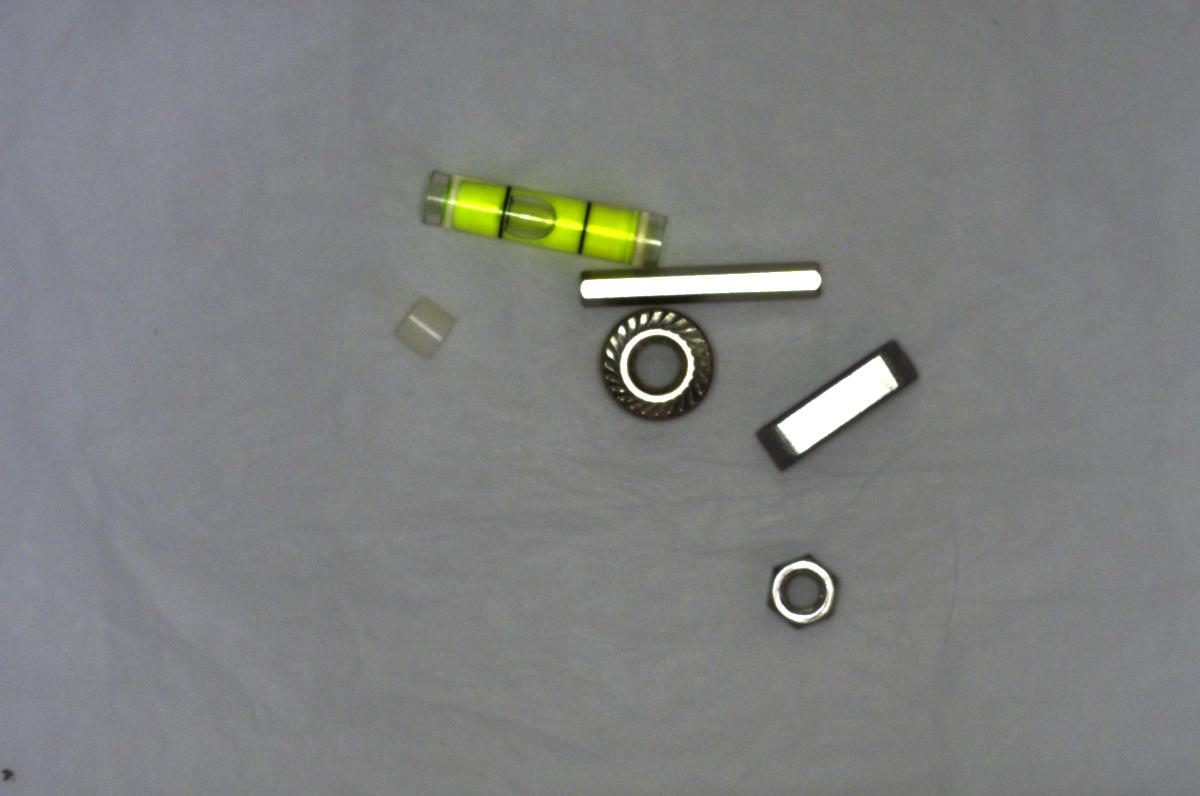Double hexagonal column: (561, 254, 835, 309)
Flange nut: (597, 301, 710, 423)
Hexagon nut: (762, 542, 851, 637)
Horizontal bubble: (398, 162, 678, 272)
Keybar: (751, 340, 924, 467)
Plastic cushion pillar: (374, 291, 470, 367)
